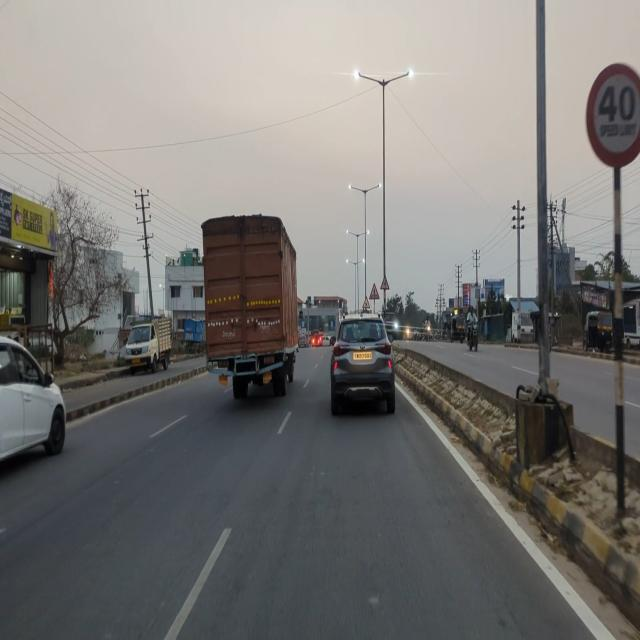bien_cam: (584, 61, 640, 171), (369, 282, 380, 300), (380, 275, 389, 290), (362, 295, 370, 309)
